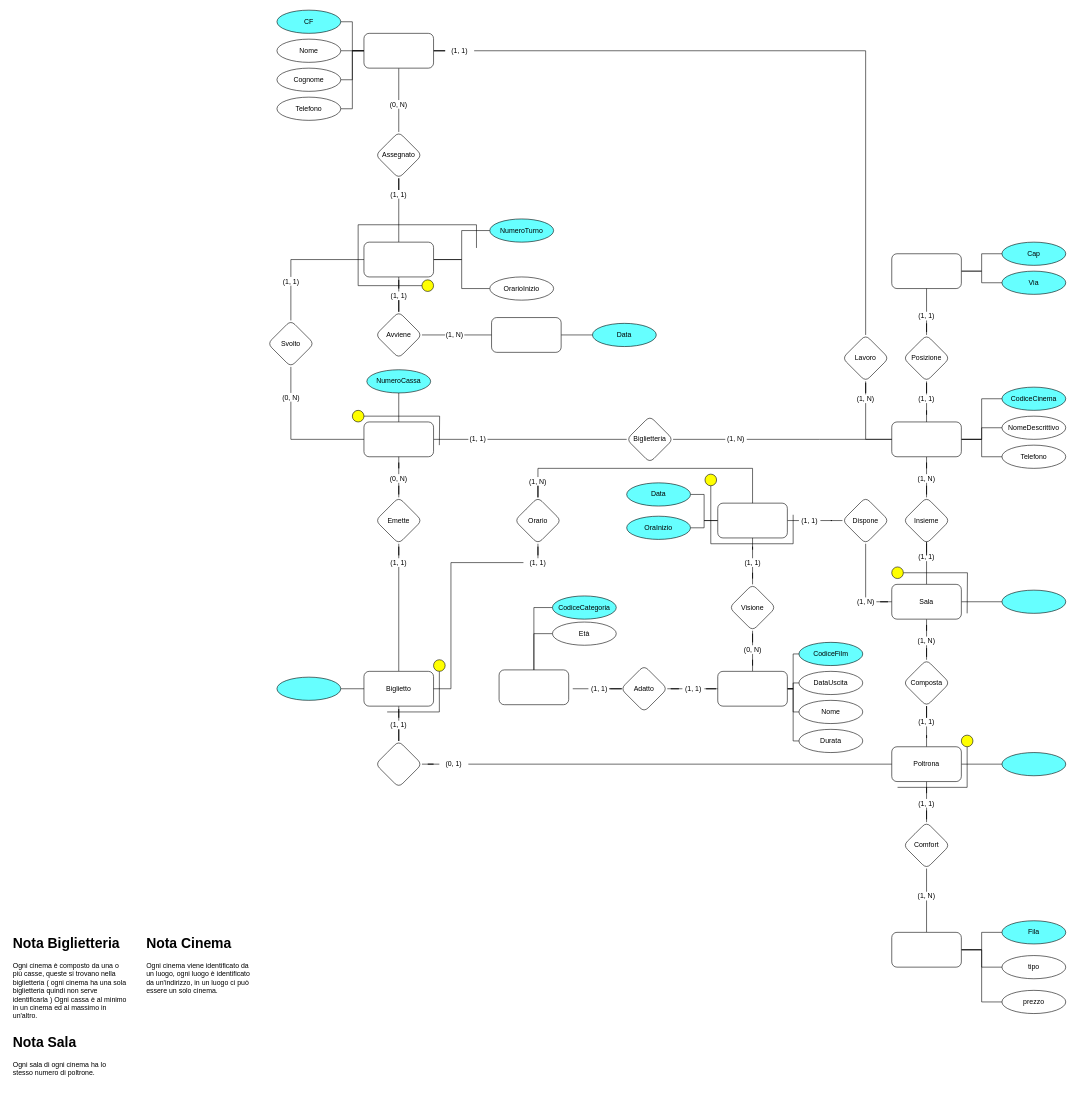
Image size: 1076x1111. Some labels were removed from this diagram. The shapes that lost their labels are listed below. From the top down, each one's centre as x and y in pixels, then its label:
the point at 398,50: Dipendete
the point at 398,259: Turno
the point at 926,271: Indirizzo
the point at 526,334: Giornata
the point at 398,439: Cassa
the point at 926,439: Cinema
the point at 752,520: Proiezione
the point at 1033,601: CodiceSala
the point at 308,688: CodiceBiglietto
the point at 534,687: Pubblico
the point at 752,688: Film
the point at 398,763: Seduta
the point at 1033,764: Colonna
the point at 926,949: Livello
